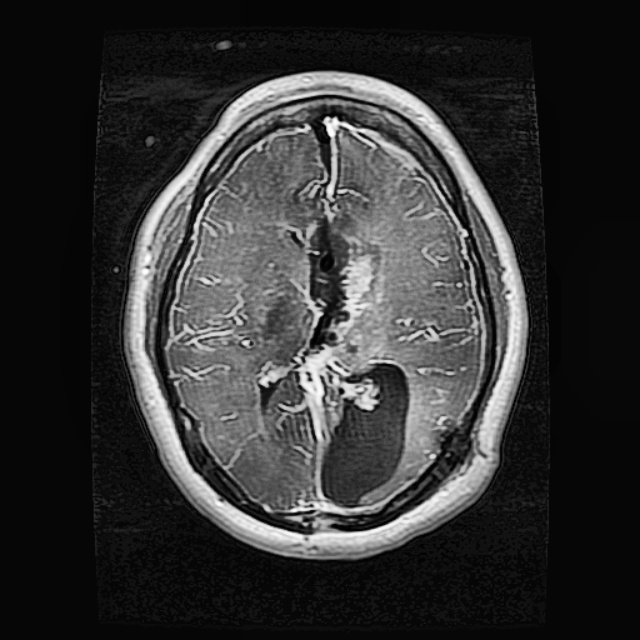Meningioma: (294, 215, 415, 509)
